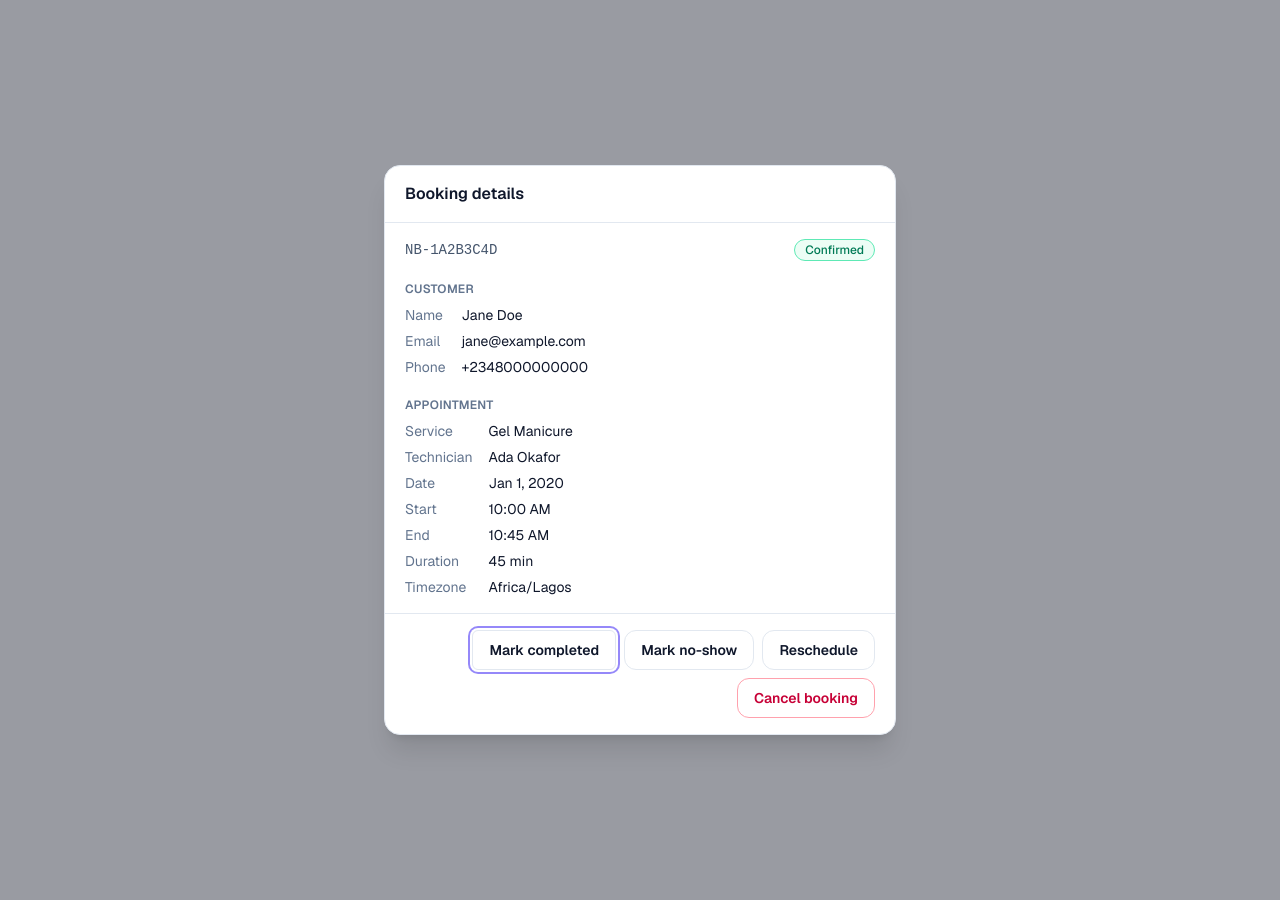
Scenario: BookingDetailDialog — Complete flow › on failure, preserves CONFIRMED and shows an inline error
This screenshot has width=1280, height=900.
What coordinates should you click on to do the following:
click the button "Mark completed"
I would click on:
 (544, 650)
Its box is [472, 630, 616, 670].
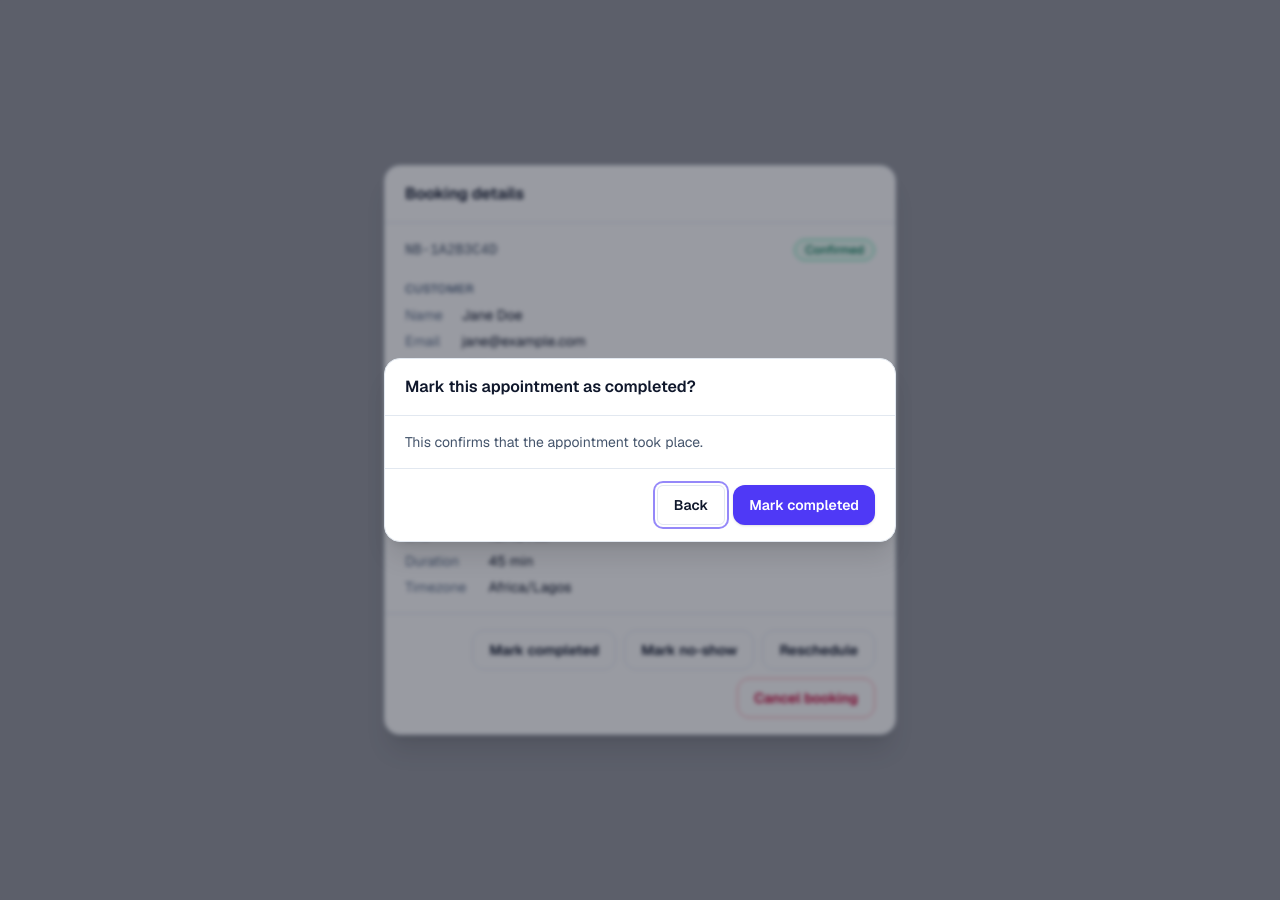
What coordinates should you click on to do the following:
click the button "Mark completed"
I would click on:
 (804, 505)
Its box is [733, 485, 875, 525].
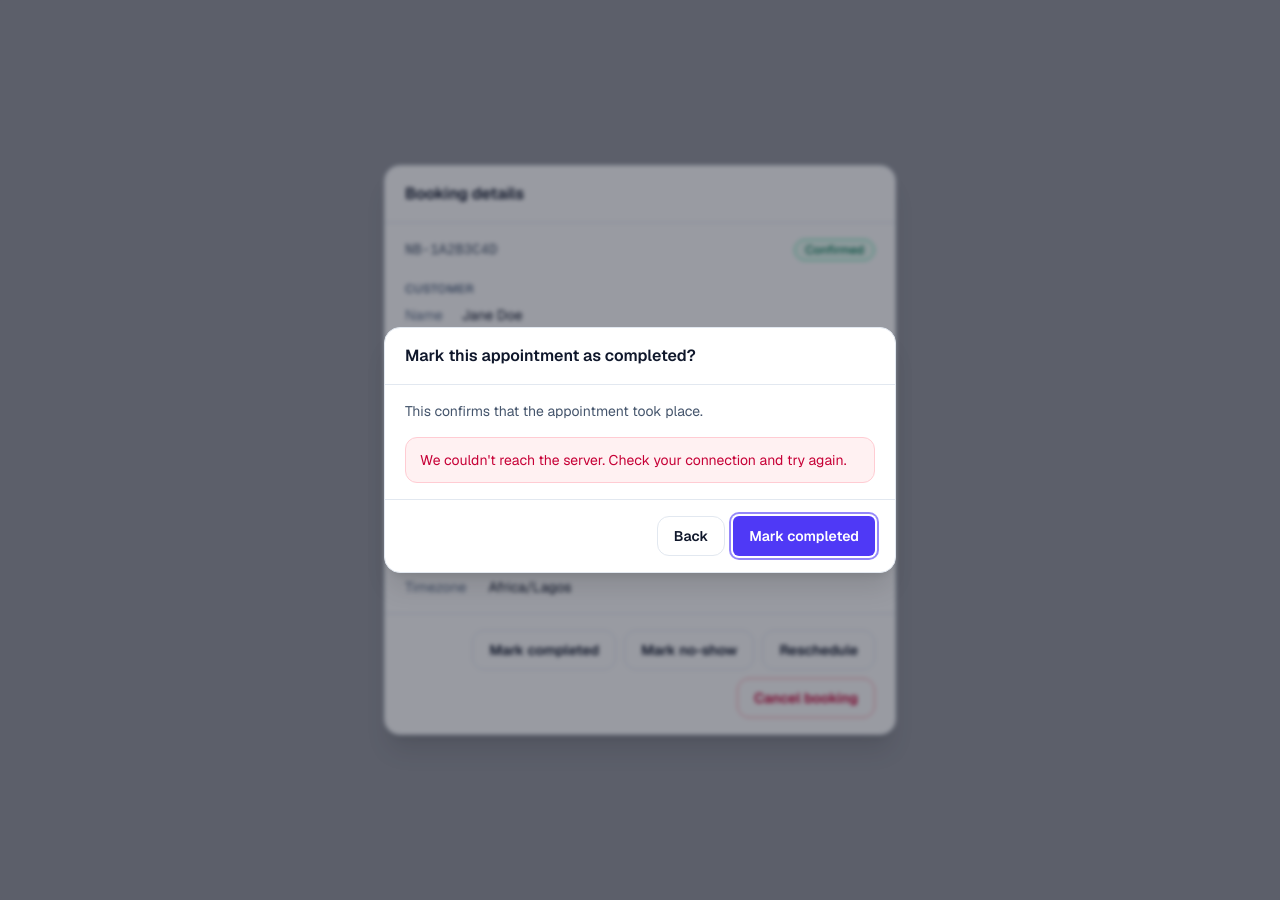
Expected: the text "Confirmed" is shown, [794, 239, 875, 261]
Now the message "We couldn't reach the server. Check your connection and try again." is shown, box [405, 437, 875, 483]
